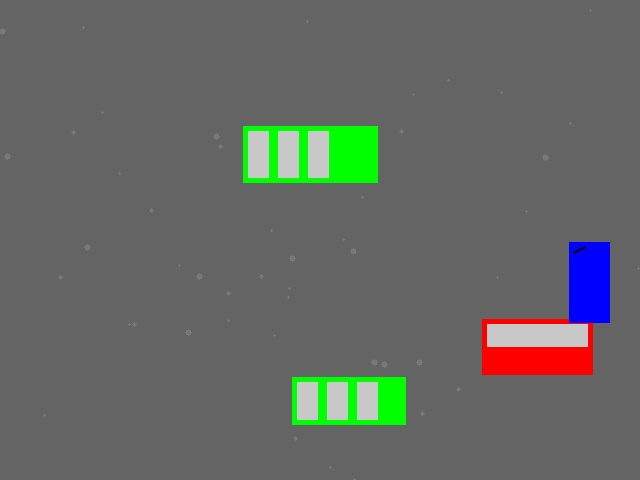bus: (243, 126, 377, 182), (292, 377, 405, 424)
car: (482, 319, 592, 374)
motorcycle: (569, 242, 609, 322)
